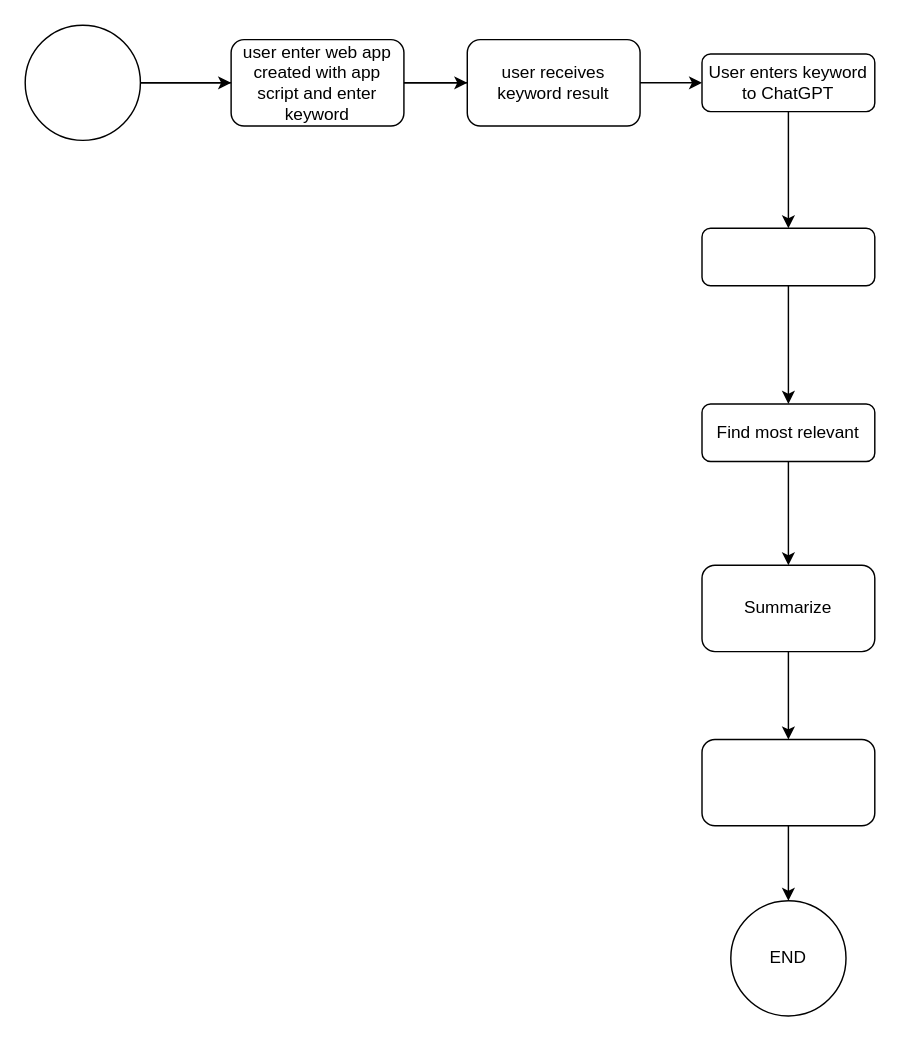
The diagram is 900 pixels wide and 1041 high, and some of its shapes have lost their labels. Here are the shapes that lost their labels. From the top down, the centre of each, then its label:
(x=82, y=82): START
(x=788, y=256): ChatGPT checks docs
(x=788, y=782): Show result
